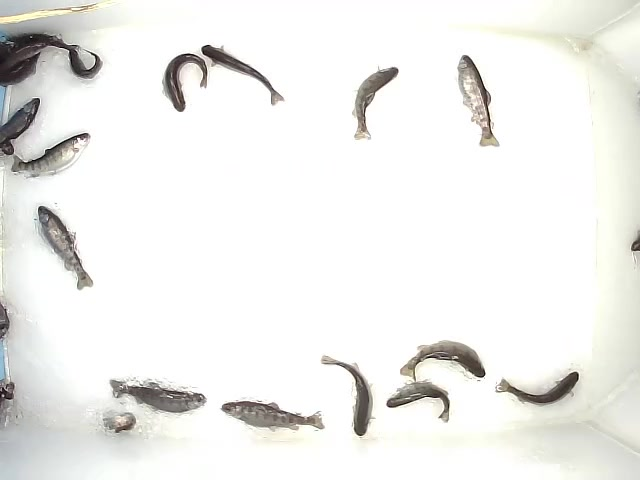fish: (199, 44, 286, 107), (320, 353, 378, 438), (41, 207, 94, 293), (456, 53, 503, 148), (398, 339, 487, 385), (352, 63, 401, 141), (109, 378, 209, 415), (219, 399, 327, 432), (494, 370, 581, 408), (1, 31, 81, 72), (161, 52, 211, 115), (385, 378, 452, 425), (45, 131, 91, 179), (1, 95, 42, 148), (68, 48, 104, 81)
